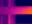Hotspot: (21, 6, 31, 15)
